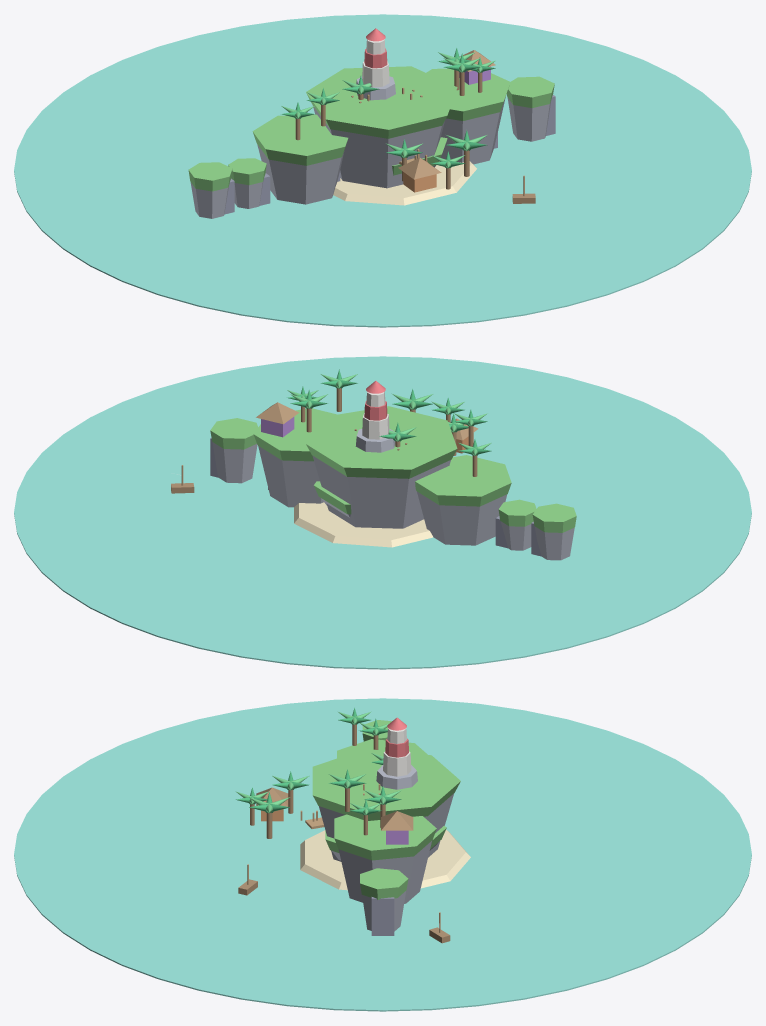
Rendered from sunlit_shores.glb.
The picture shows the model from 3 angles, top to bottom: view 1: azimuth 30°, elevation 25°; view 2: azimuth 150°, elevation 25°; view 3: azimuth 270°, elevation 25°; orthographic projection.
Visible parts, largest first — view 1: Shallow, Center_grass, Center_rock, Left_grass, Left_rock, Beach_sand, Right_grass, Right_rock, Far2_rock, Far2_grass, Far1_grass, Far1_rock (+4 smaller); view 2: Shallow, Center_grass, Center_rock, Left_grass, Beach_sand, Left_rock, Right_rock, Right_grass, Far2_rock, Far2_grass, Far1_grass, Far1_rock (+5 smaller); view 3: Shallow, Center_grass, Beach_sand, Right_grass, Right_rock, Far2_grass, Center_rock, Far2_stairs, LH_base, Far2_rock, LH_w1, HutRight_roof (+1 smaller).
Boxes of the visible parts, x1,y1,x2,y2 form: Shallow: (14,14,751,327); Center_grass: (306,66,457,138); Center_rock: (313,106,444,188); Left_grass: (252,114,348,165); Left_rock: (257,144,344,204); Beach_sand: (333,161,476,205); Right_grass: (426,68,510,120); Right_rock: (440,97,505,164); Far2_rock: (507,98,551,141); Far2_grass: (506,76,554,108); Far1_grass: (188,162,232,191); Far1_rock: (190,182,228,218); Shallow: (14,356,751,669); Center_grass: (306,406,457,478); Center_rock: (312,455,450,528); Left_grass: (415,455,511,506); Beach_sand: (294,502,433,547); Left_rock: (417,491,507,545); Right_rock: (258,446,323,507); Right_grass: (253,408,336,461); Far2_rock: (212,442,257,483); Far2_grass: (210,418,258,449); Far1_grass: (532,503,576,532); Far1_rock: (534,526,574,560); Shallow: (14,698,751,1011); Center_grass: (312,749,460,820); Beach_sand: (300,829,470,890); Right_grass: (334,814,436,860); Right_rock: (338,841,431,903); Far2_grass: (360,868,408,899); Center_rock: (319,793,453,861); Far2_stairs: (371,897,394,935); LH_base: (376,765,417,789); Far2_rock: (362,891,405,931); LH_w1: (383,751,411,776); HutRight_roof: (381,811,413,830).
Size of what is drawn, in the model's own units: 52 by 10.75 by 52.
